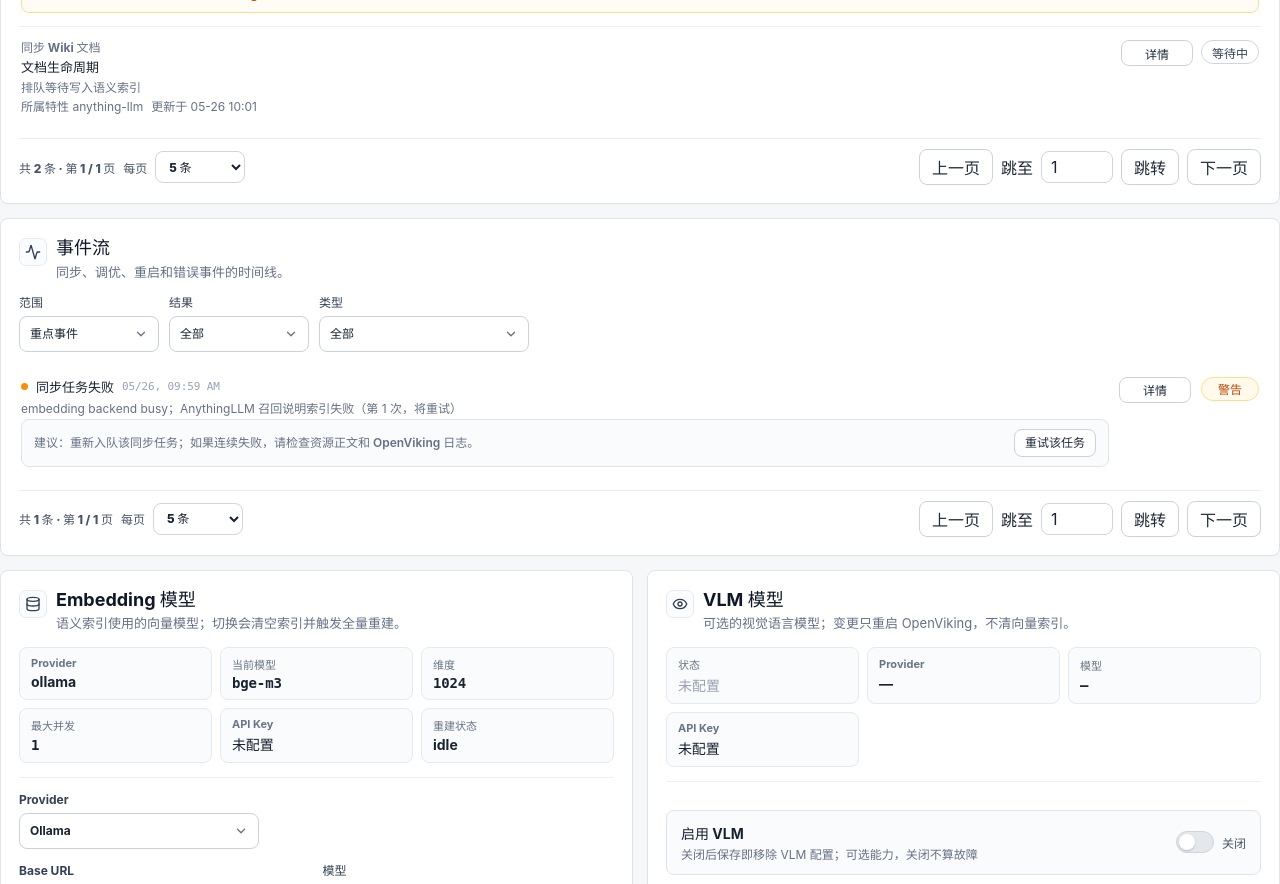
Test: OpenVikingDashboard › shows remediation success only after the retry request succeeds
(page scrolled)
Expected: the text "同步任务失败" is shown, [36,377,114,396]
What coordinates should you click on to do the following:
click the button "重试该任务"
I would click on:
 (1055, 443)
Its box is [1014,429,1096,457].
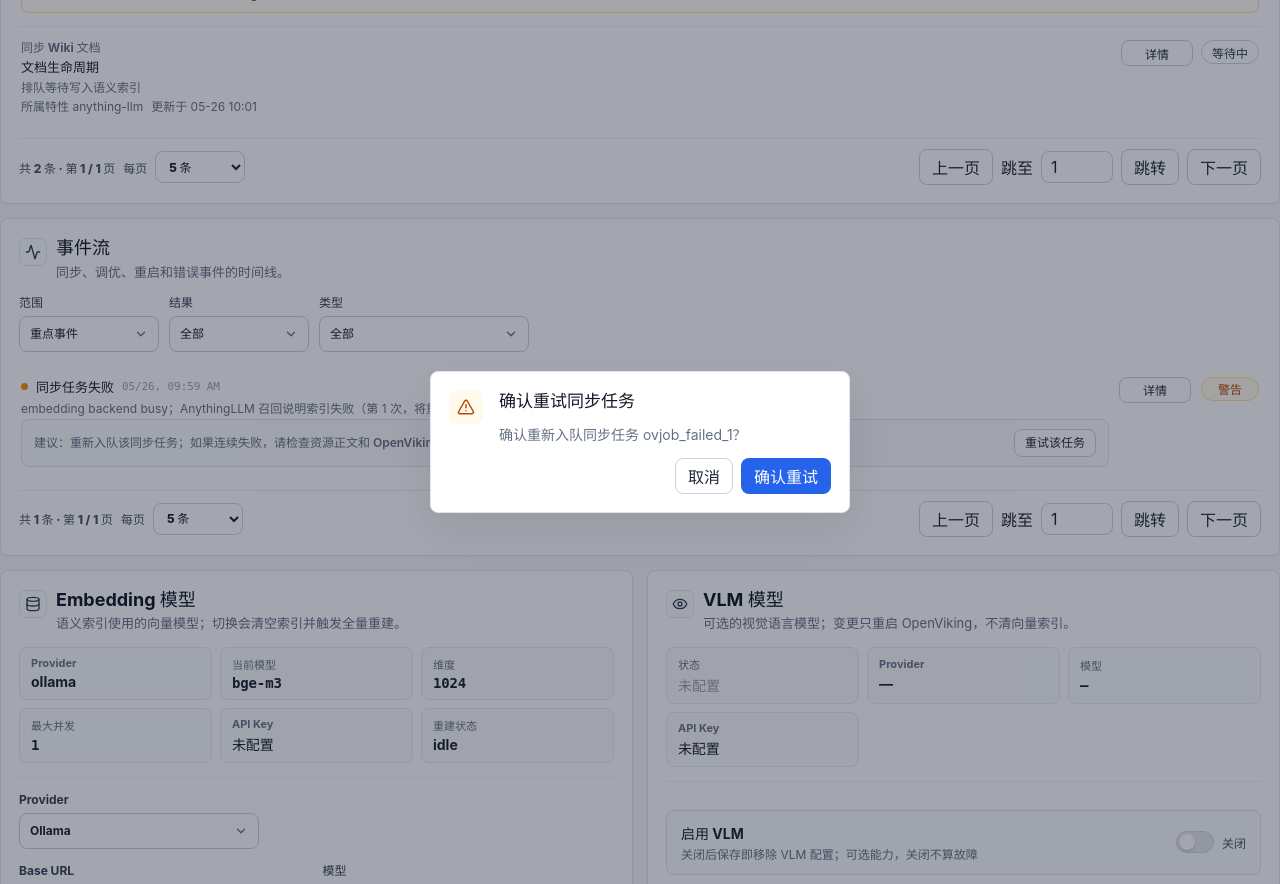
What coordinates should you click on to do the following:
click the button "确认重试"
I would click on:
 (786, 476)
Its box is [741,458,831,494].
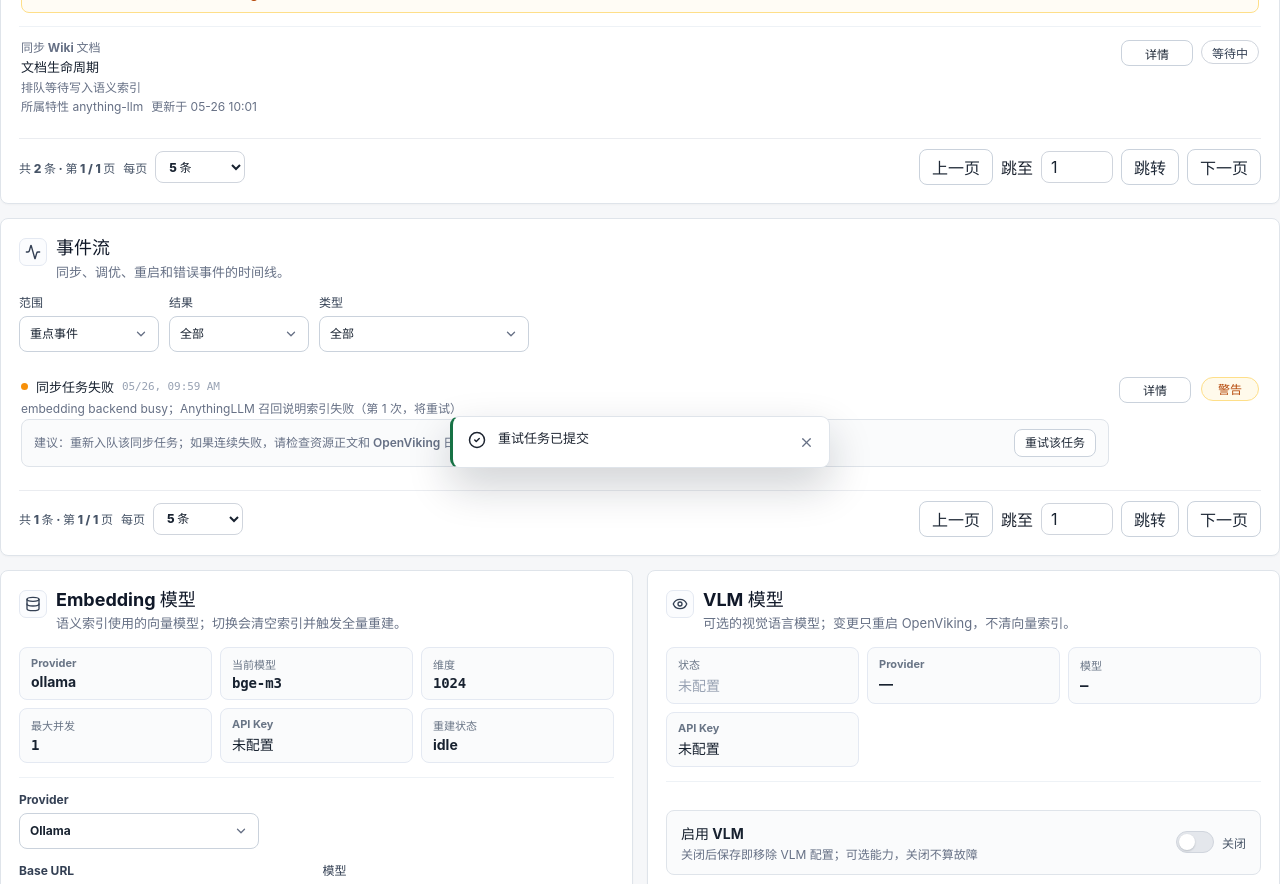
Expected: the text "重试任务已提交" is shown once, [498,430,589,446]
